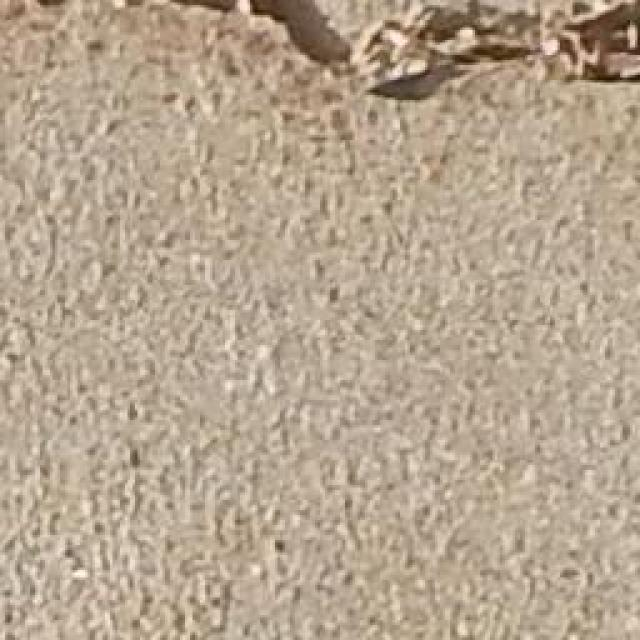concrete-crack: (163, 0, 640, 109)
